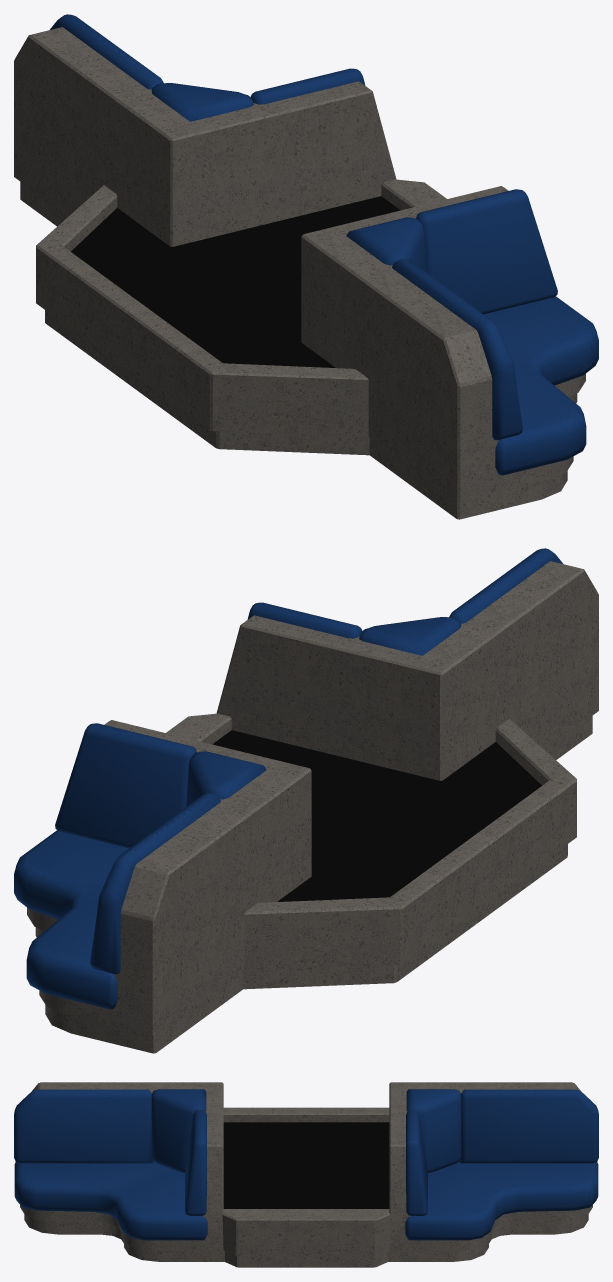
Rendered from MAIL_SEATS_ISLAND.fbx.
3 renders of one model, top to bottom at view 1: azimuth 30°, elevation 25°; view 2: azimuth 150°, elevation 25°; view 3: azimuth 270°, elevation 25°, orthographic. The views are drawn at different scales.
Visible parts, largest first — view 1: SolidebaseWall, Cube; view 2: SolidebaseWall, Cube; view 3: Cube, SolidebaseWall.
Boxes of the visible parts, left/top/right/bottom form: SolidebaseWall: left=14, top=27, right=585, bottom=519; Cube: left=50, top=14, right=598, bottom=475; SolidebaseWall: left=27, top=561, right=598, bottom=1053; Cube: left=14, top=548, right=562, bottom=1009; Cube: left=14, top=1089, right=598, bottom=1240; SolidebaseWall: left=20, top=1082, right=592, bottom=1267.
Size of the model in its own units: 238 by 115 by 524.
3 materials, 2 textured.
